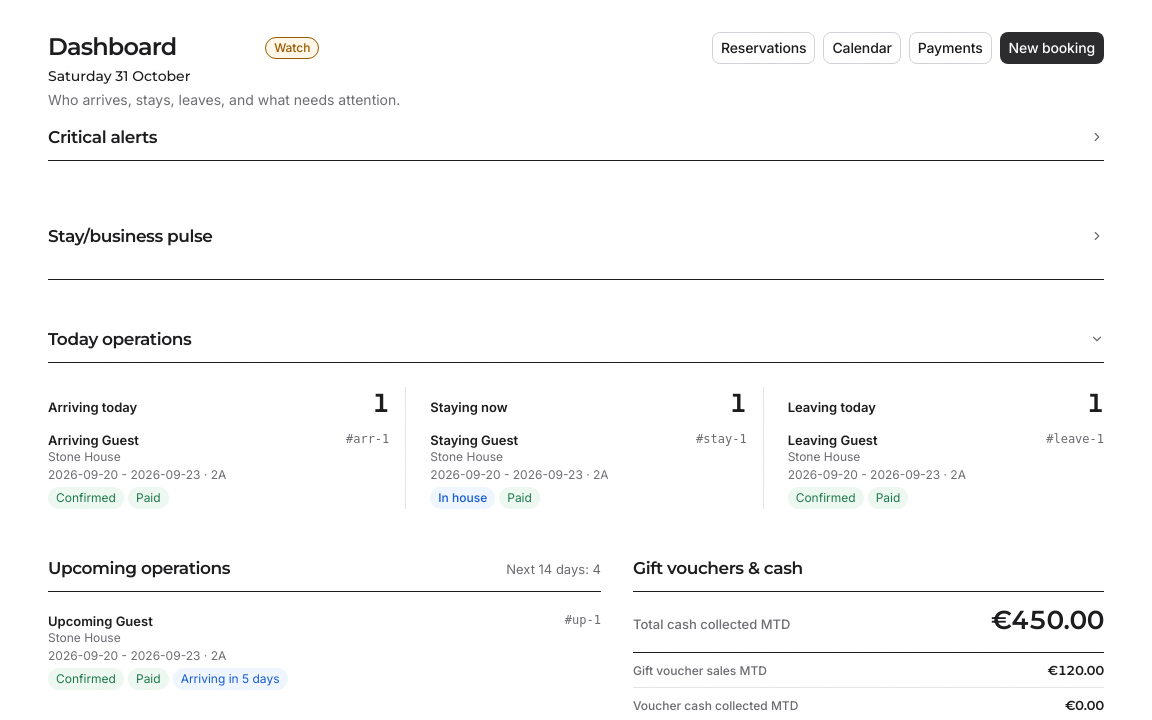
Test case: OpsDashboard home migration › renders a representative payload in operational order
The image size is (1152, 720).
Click the button "Critical alerts" at (103, 137), box [48, 126, 1104, 161]
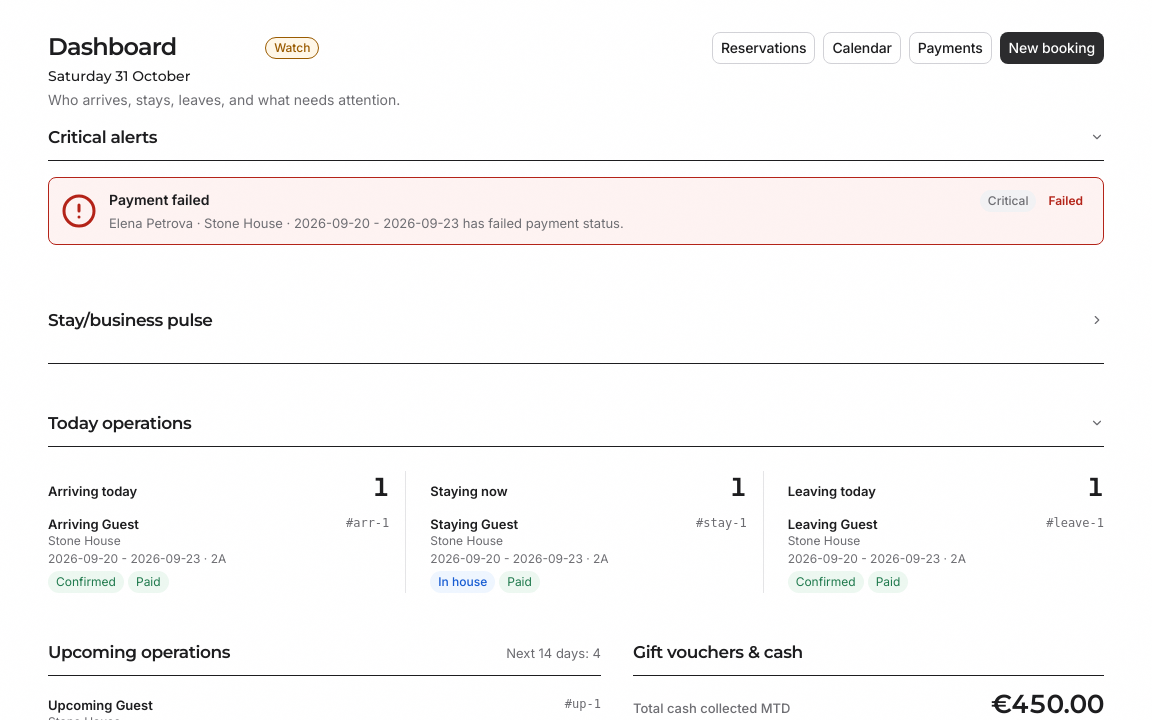
Click the button "Stay/business pulse" at (130, 320), box [48, 309, 1104, 331]
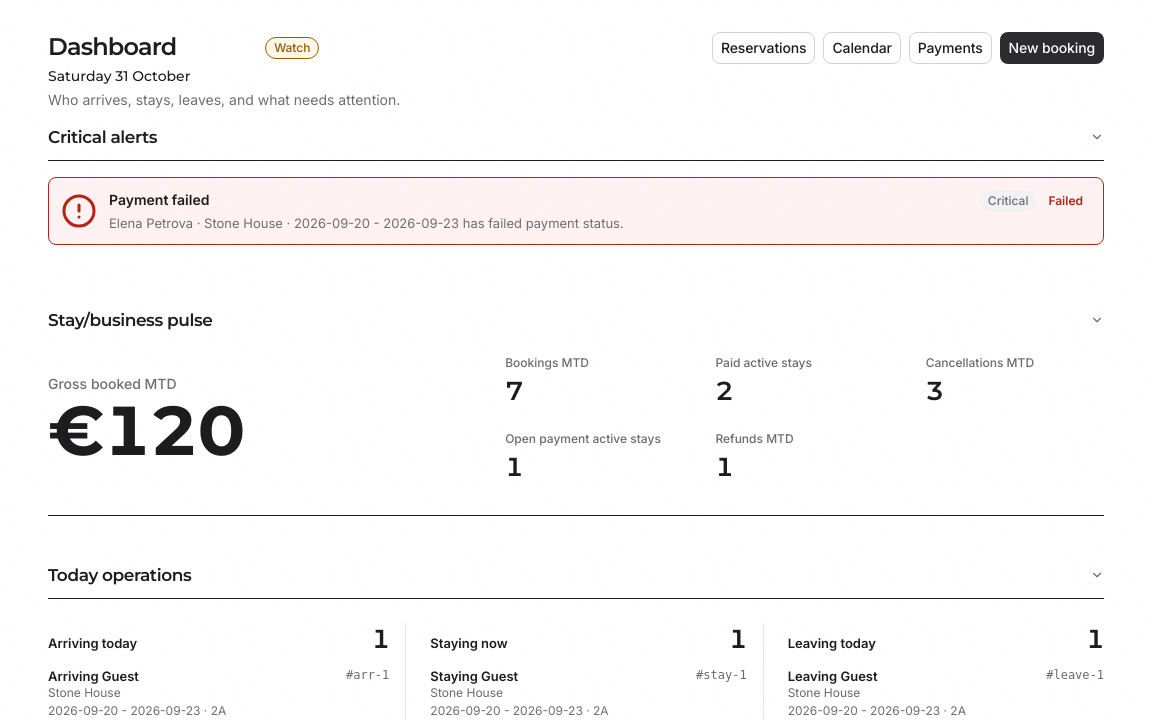
Check: the text "Arriving Guest" is shown, box [48, 668, 139, 684]
Check: the text "Payment failed" is shown, box [109, 191, 210, 208]
Check: the element that starts with "Bookings MTD" is shown, box [48, 355, 1104, 483]
